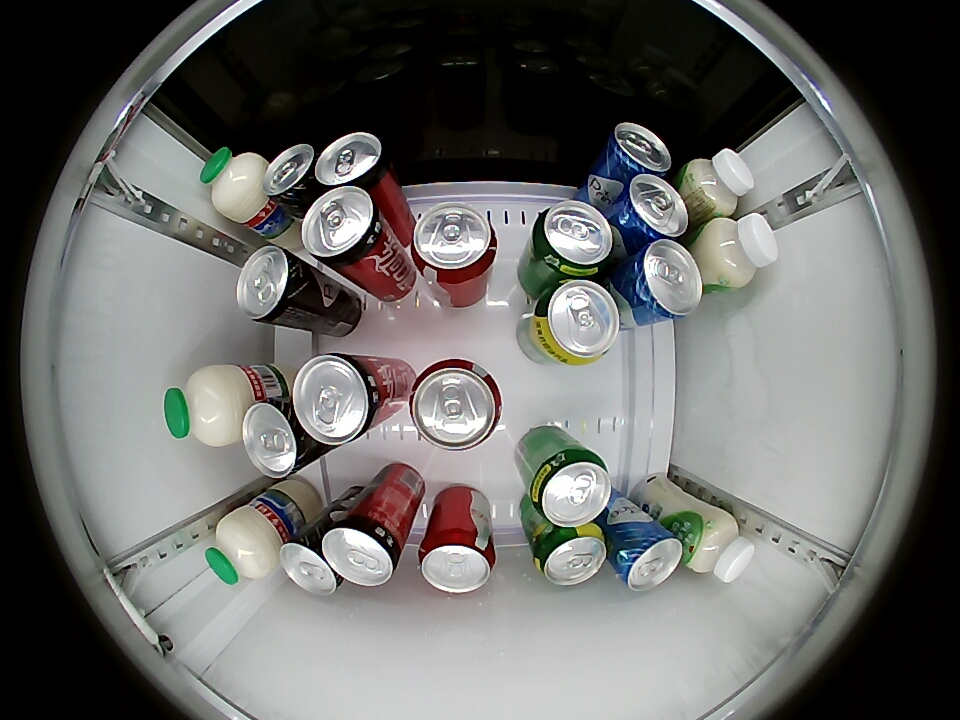kele: (407, 358, 503, 452), (410, 205, 498, 283), (418, 529, 496, 595)
lingdukele: (291, 353, 389, 448), (301, 186, 391, 270), (322, 511, 405, 587), (315, 132, 393, 194)
liziyuan: (164, 364, 253, 448), (205, 504, 283, 586), (200, 146, 269, 223)
qingdaowangzi-1: (235, 245, 312, 325), (241, 402, 313, 478), (279, 532, 343, 596), (263, 144, 319, 204)
qingdaowangzi-2: (624, 239, 703, 322), (615, 174, 689, 244), (612, 522, 683, 591), (605, 122, 672, 178)
xuebi2: (529, 279, 621, 366), (526, 445, 612, 527), (528, 201, 614, 278), (530, 524, 607, 586)
yousuanru: (699, 213, 778, 290), (682, 148, 754, 219), (684, 510, 755, 582)
